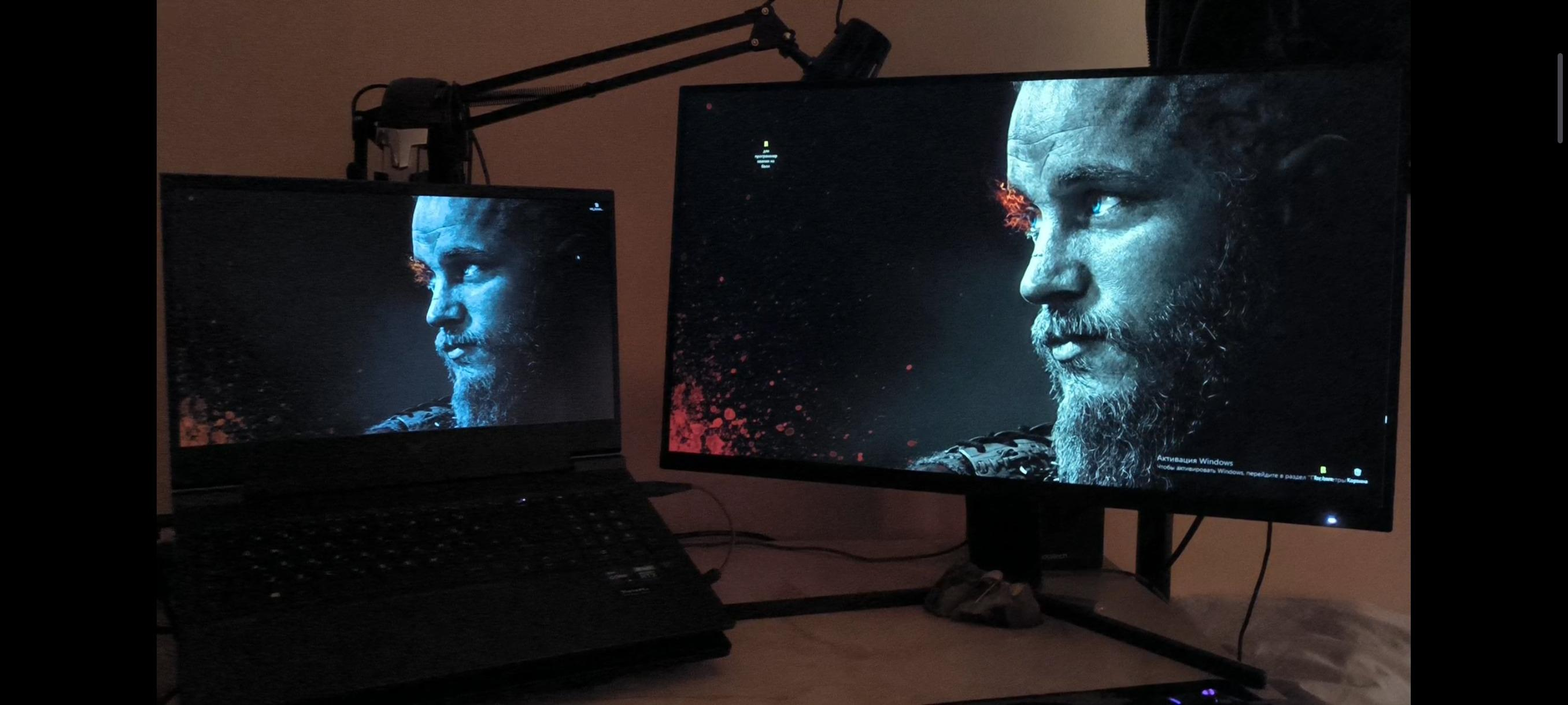monitor: (652, 55, 1414, 540), (150, 168, 626, 507)
